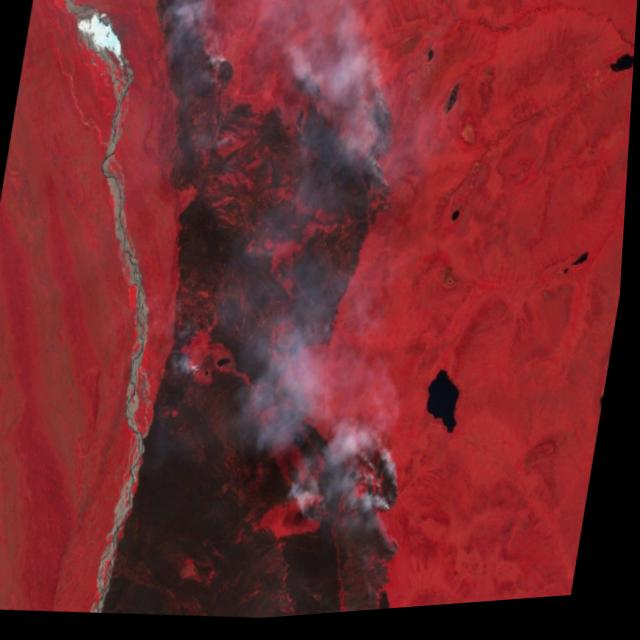fire: (282, 431, 432, 622), (330, 82, 425, 236), (271, 58, 344, 132), (121, 0, 216, 52), (202, 43, 246, 103)
